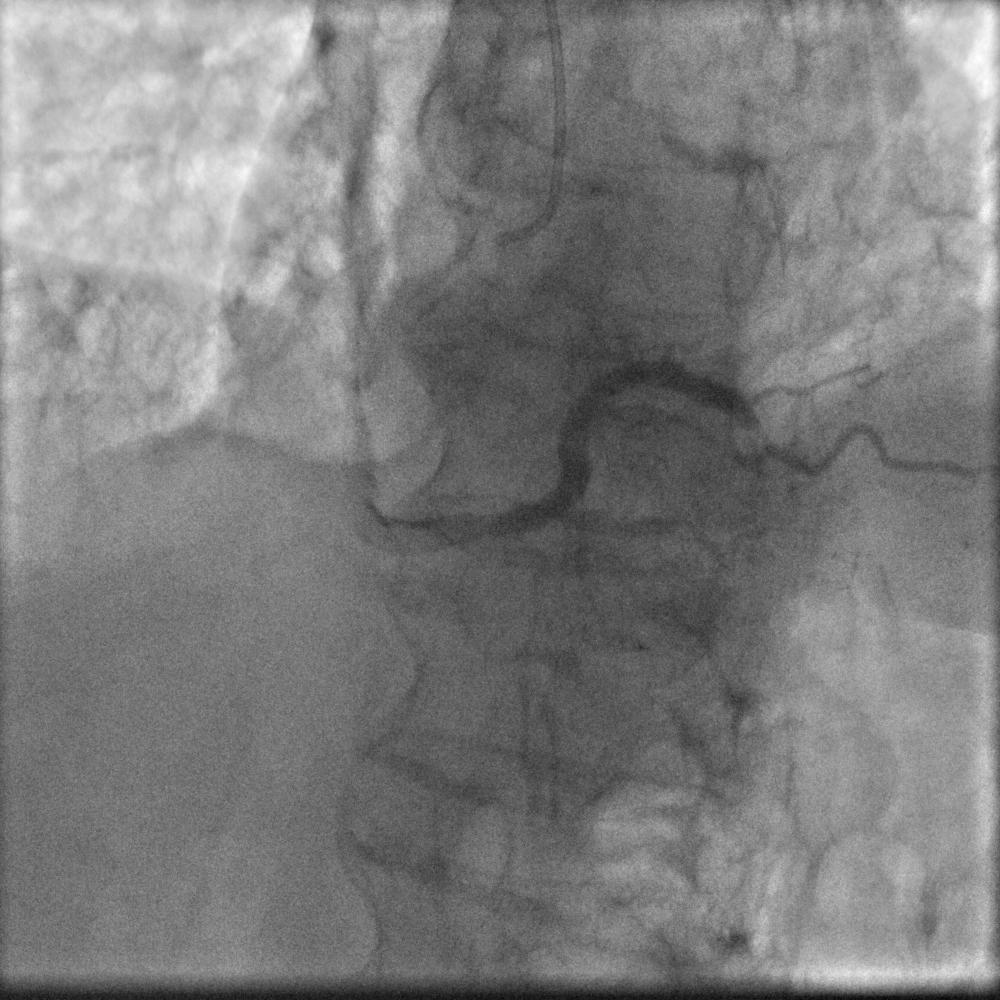Stenosis: (735, 386, 780, 471)
